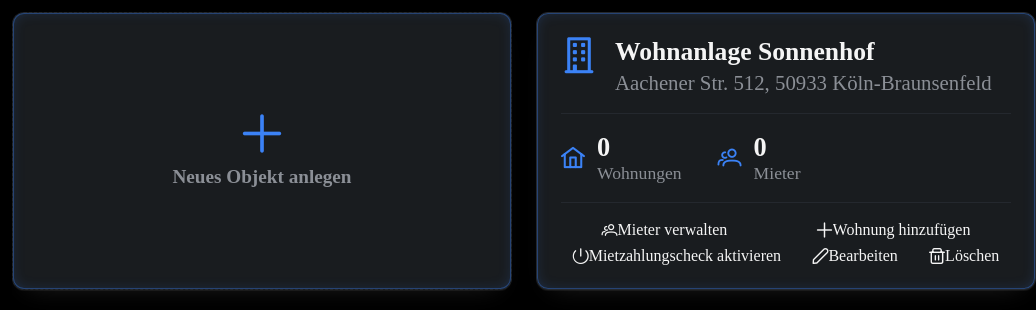
Test case: PropertyList › activates the rent payment check of the clicked property and then offers its deactivation
Click the button "Mietzahlungscheck aktivieren" at point(677, 256), box [561,247,793,265]
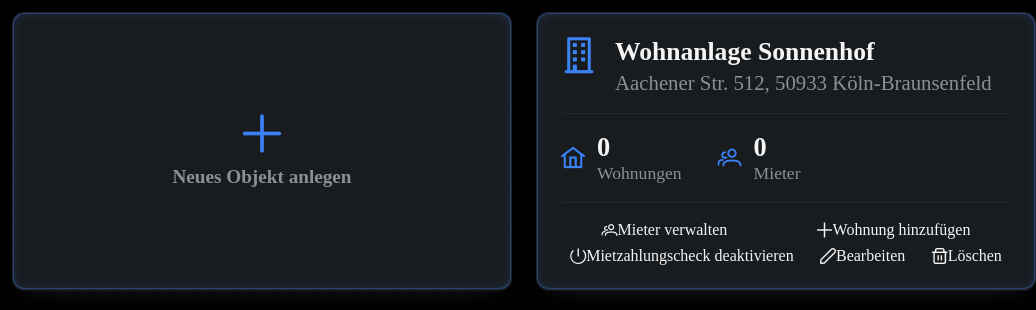
Check: the button "Mietzahlungscheck deaktivieren" is shown, box [561,247,803,265]
